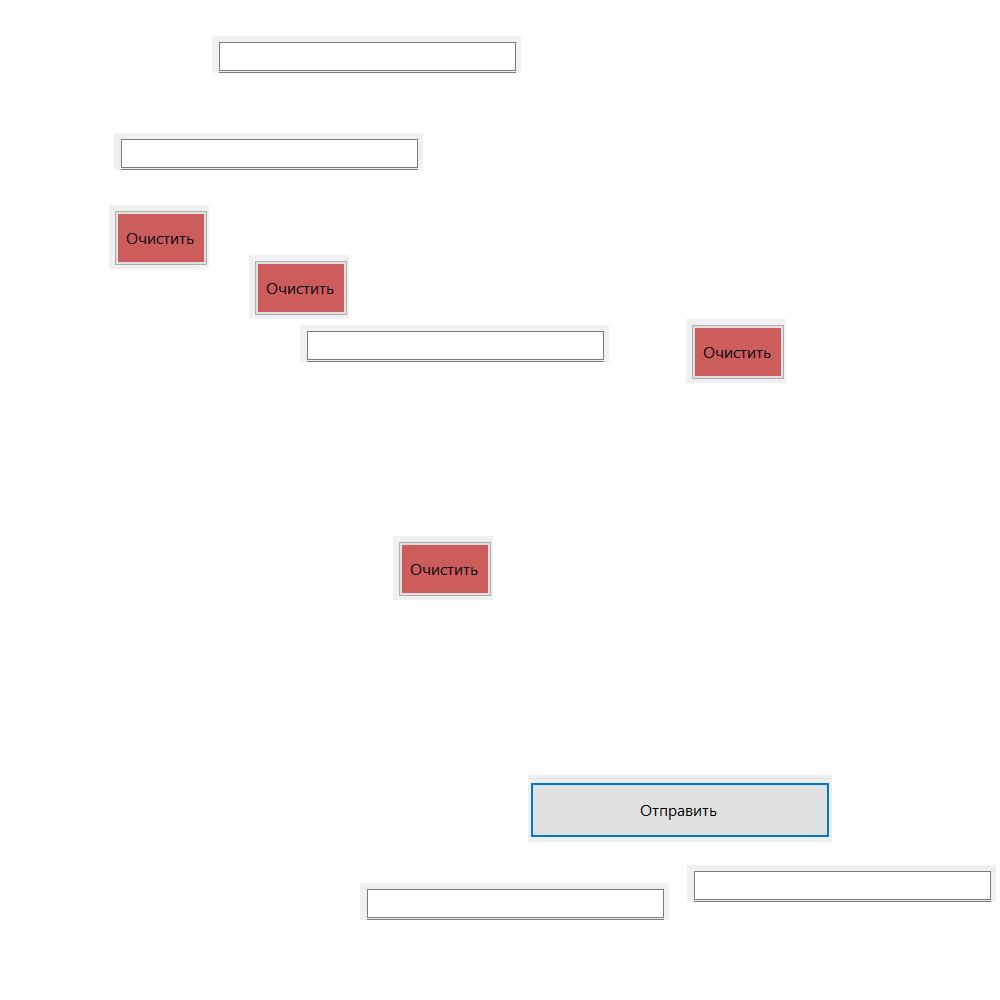Button: (528, 775, 832, 842), (249, 255, 349, 319), (393, 536, 493, 600), (109, 205, 209, 269), (686, 319, 786, 383)
EditText-: (212, 36, 521, 73), (114, 133, 423, 170), (300, 325, 609, 362), (687, 865, 996, 902), (360, 883, 669, 920)
